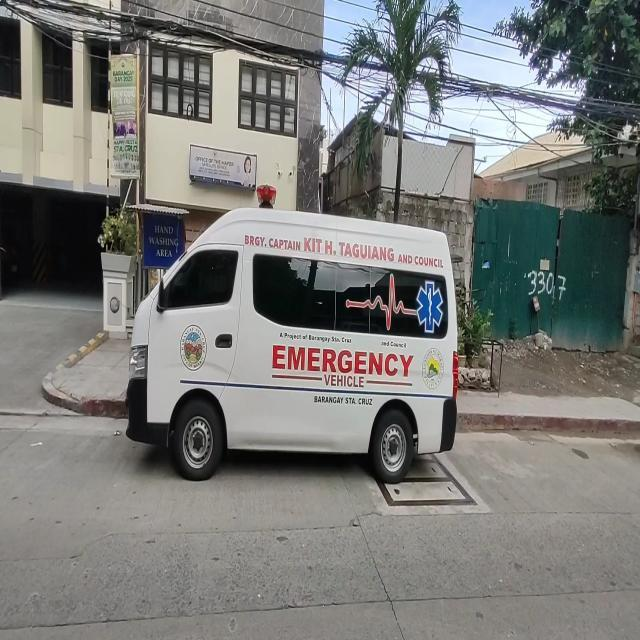emergency-vehicle: (115, 177, 470, 496), (264, 337, 416, 395)
